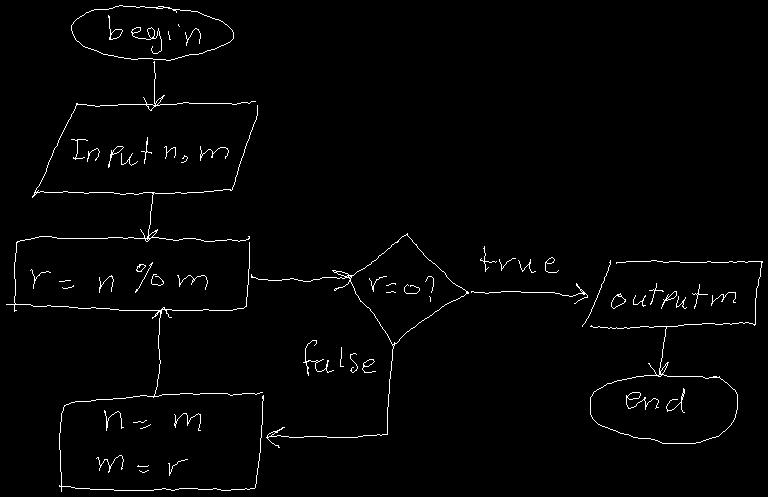arrow: (266, 342, 394, 447), (471, 283, 587, 303), (251, 270, 351, 290), (152, 307, 171, 397), (143, 61, 164, 110), (648, 326, 668, 376), (140, 192, 157, 241)
data: (32, 101, 257, 197), (582, 260, 762, 328)
decision: (347, 233, 468, 345)
process: (59, 392, 263, 491), (6, 236, 249, 311)
terminator: (590, 374, 737, 443), (71, 5, 233, 60)
text: (96, 410, 200, 475), (30, 262, 207, 292), (71, 137, 228, 167), (108, 15, 200, 53), (611, 283, 735, 308), (303, 340, 375, 375), (480, 246, 558, 272), (369, 276, 433, 301), (626, 388, 684, 412)
